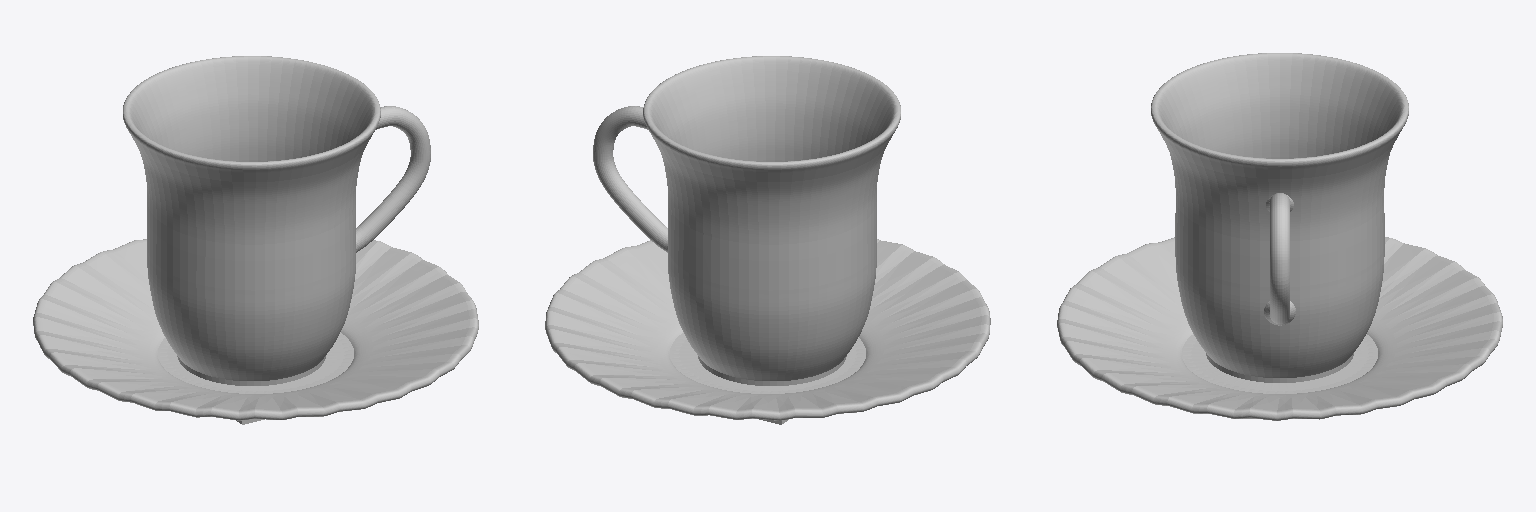
File: teacup.obj
3 renders of one model, left to right at view 1: azimuth 30°, elevation 25°; view 2: azimuth 150°, elevation 25°; view 3: azimuth 270°, elevation 25°, orthographic.
Parts seen in each view (by area): view 1: Line01, Line02, Line03; view 2: Line01, Line02, Line03; view 3: Line01, Line02, Line03.
Part boxes in pixels (left/top/right/bottom): Line01: left=123, top=56, right=380, bottom=385; Line02: left=33, top=239, right=478, bottom=420; Line03: left=356, top=106, right=430, bottom=252; Line01: left=643, top=56, right=900, bottom=385; Line02: left=545, top=239, right=990, bottom=420; Line03: left=593, top=106, right=667, bottom=252; Line01: left=1151, top=53, right=1408, bottom=382; Line02: left=1057, top=237, right=1502, bottom=420; Line03: left=1264, top=193, right=1295, bottom=325.
Size of the model in its own units: 12.03 by 8.79 by 12.03.